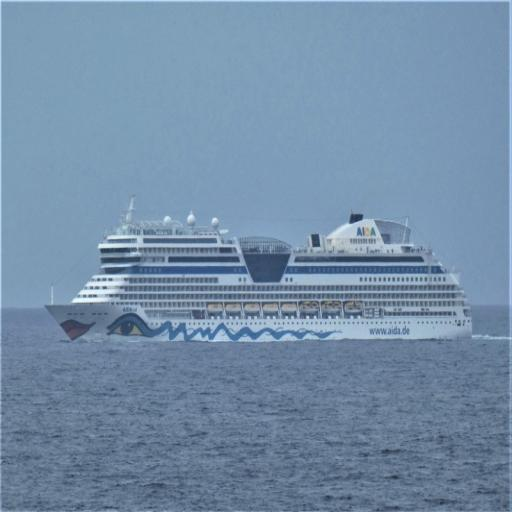cruises: (41, 191, 478, 347)
